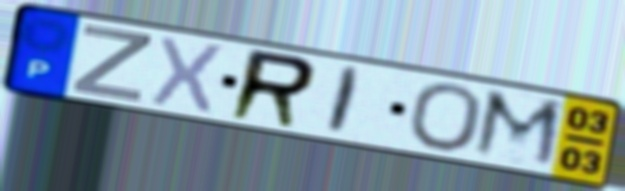I: (322, 63, 366, 138)
M: (468, 86, 569, 173)
O: (404, 81, 487, 154)
R: (223, 46, 321, 132)
X: (146, 33, 229, 118)
Z: (68, 21, 156, 105)
